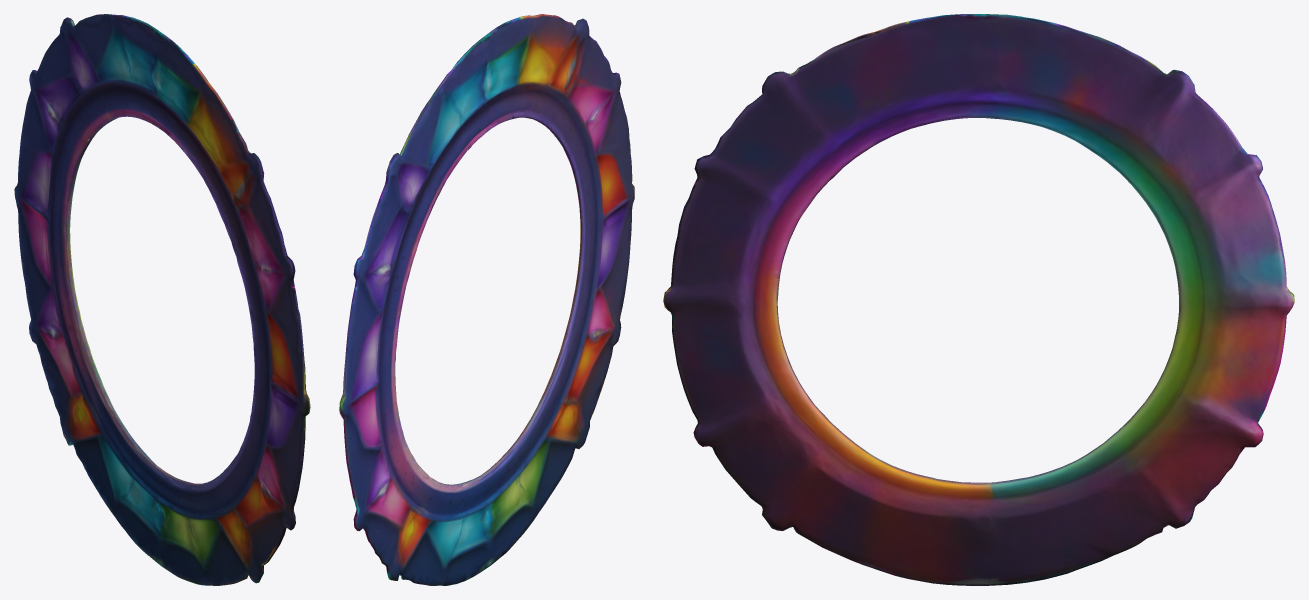
File: a_portal_like_locator_0203154359_texture.fbx
The picture shows the model from 3 angles, left to right: view 1: azimuth 30°, elevation 25°; view 2: azimuth 150°, elevation 25°; view 3: azimuth 270°, elevation 25°; orthographic projection. The views are drawn at different scales.
Visible parts, largest first — view 1: Mesh1_Mesh1.088; view 2: Mesh1_Mesh1.088; view 3: Mesh1_Mesh1.088.
Part boxes in pixels (bbox=[...]): Mesh1_Mesh1.088: bbox=[14, 14, 310, 585]; Mesh1_Mesh1.088: bbox=[339, 14, 634, 585]; Mesh1_Mesh1.088: bbox=[663, 14, 1294, 585].
Bounding box in the file's own units: 2.95 × 200 × 201.
Materials: 1 (1 with a texture image).
